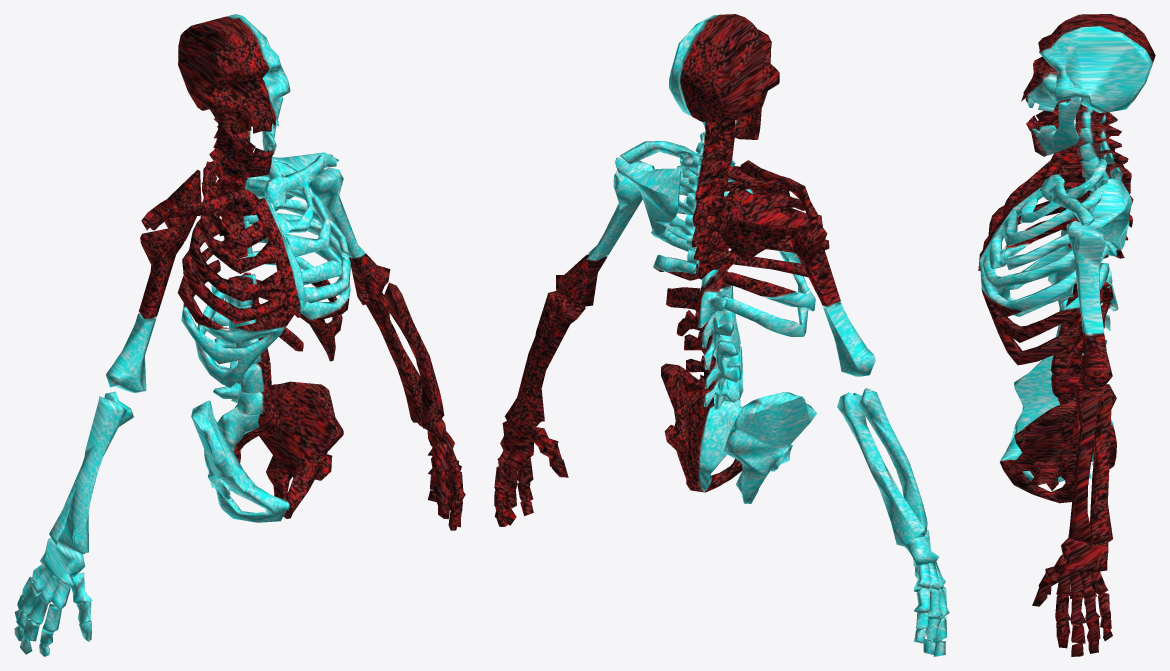
The picture shows the model from 3 angles, left to right: view 1: azimuth 30°, elevation 25°; view 2: azimuth 150°, elevation 25°; view 3: azimuth 270°, elevation 25°; orthographic projection. The views are drawn at different scales.
Parts seen in each view (by area): view 1: SM_VFX_RiverOfSoulsSkeleton_LOD0; view 2: SM_VFX_RiverOfSoulsSkeleton_LOD0; view 3: SM_VFX_RiverOfSoulsSkeleton_LOD0.
Part boxes in pixels (<box>): SM_VFX_RiverOfSoulsSkeleton_LOD0: <box>14,14,465,656</box>; SM_VFX_RiverOfSoulsSkeleton_LOD0: <box>494,14,949,656</box>; SM_VFX_RiverOfSoulsSkeleton_LOD0: <box>978,14,1155,656</box>.
Size of the model in its own units: 0.9455 by 1.19 by 0.3425.
1 material, 1 textured.
